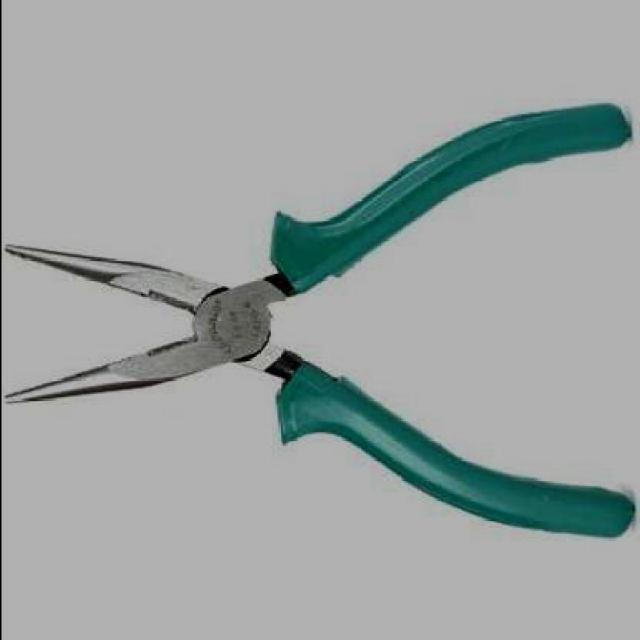pliers: (2, 100, 630, 542)
